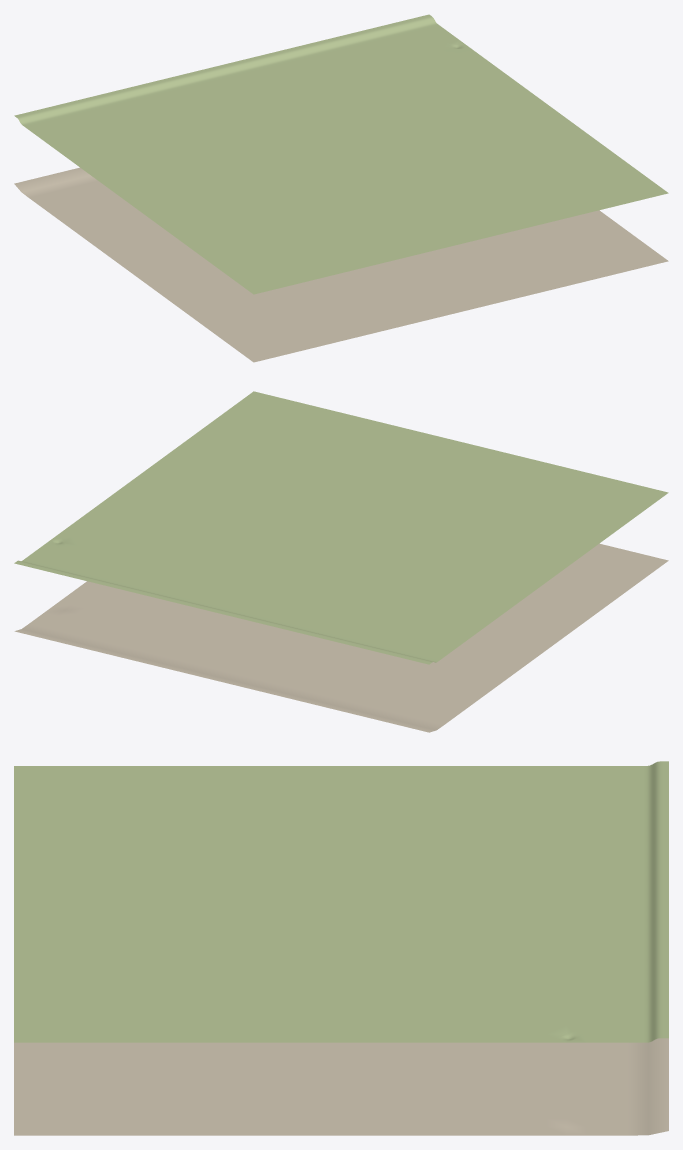
3 views of the same model, one above another, from view 1: azimuth 30°, elevation 25°; view 2: azimuth 150°, elevation 25°; view 3: azimuth 270°, elevation 25° (orthographic). The views are drawn at different scales.
Visible parts, largest first — view 1: s_2_1__grass, s_2_1__soil; view 2: s_2_1__grass, s_2_1__soil; view 3: s_2_1__grass, s_2_1__soil.
Part boxes in pixels (x1=…): s_2_1__grass: x1=14, y1=14, x2=668, y2=294; s_2_1__soil: x1=14, y1=167, x2=668, y2=362; s_2_1__grass: x1=14, y1=391, x2=668, y2=664; s_2_1__soil: x1=14, y1=543, x2=668, y2=732; s_2_1__grass: x1=14, y1=761, x2=668, y2=1042; s_2_1__soil: x1=14, y1=1038, x2=668, y2=1135.
Bounding box in the file's own units: 128 × 21.04 × 128.
